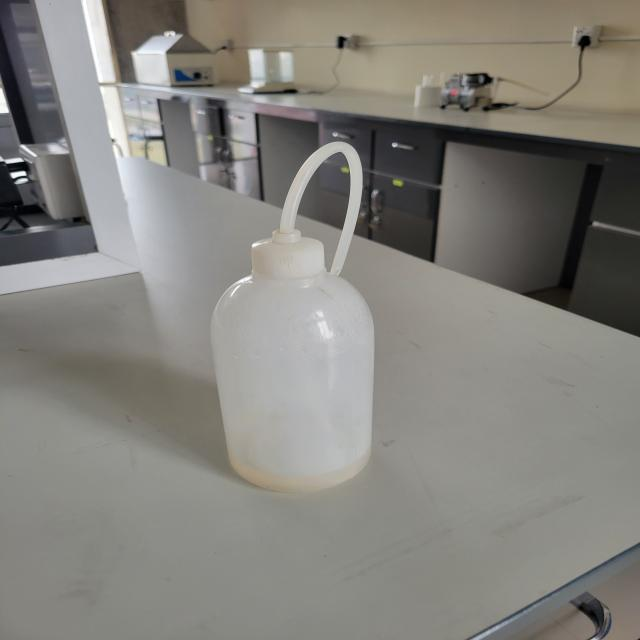Wash_Bottle: (191, 111, 448, 514)
